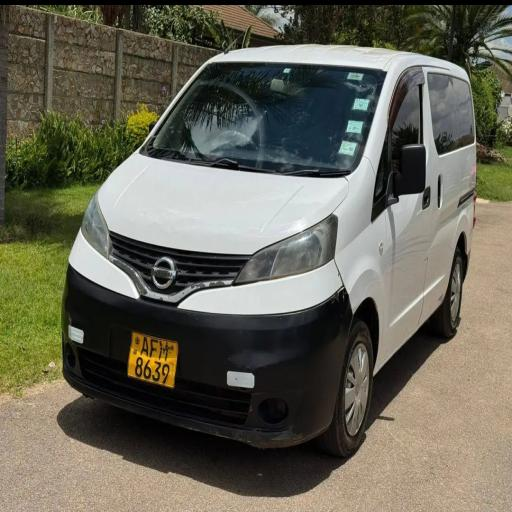number-plates: (128, 324, 176, 388)
